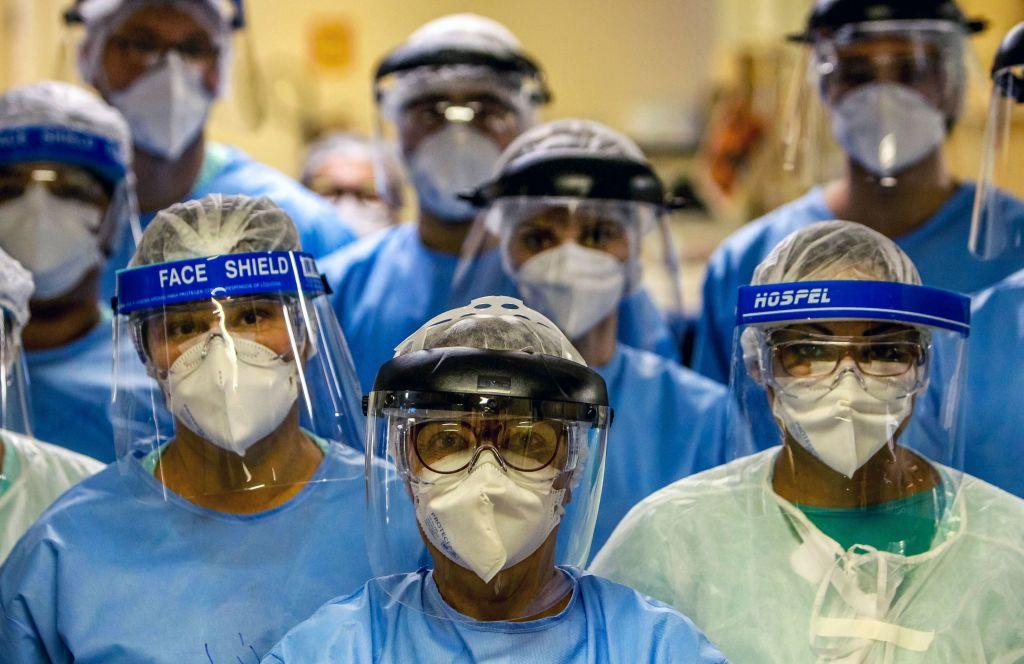Face_Shield: (359, 344, 614, 628), (102, 247, 345, 527), (733, 275, 972, 538), (460, 155, 672, 381), (788, 1, 980, 200), (367, 33, 557, 232), (55, 1, 257, 158), (1, 121, 141, 346)
Goggles: (750, 318, 945, 409), (383, 410, 590, 489), (126, 297, 317, 373)
with_mask: (425, 426, 563, 585), (779, 331, 919, 483), (169, 305, 291, 455), (107, 11, 220, 159), (834, 44, 942, 180), (400, 87, 518, 211), (1, 163, 108, 295), (521, 219, 624, 336)
